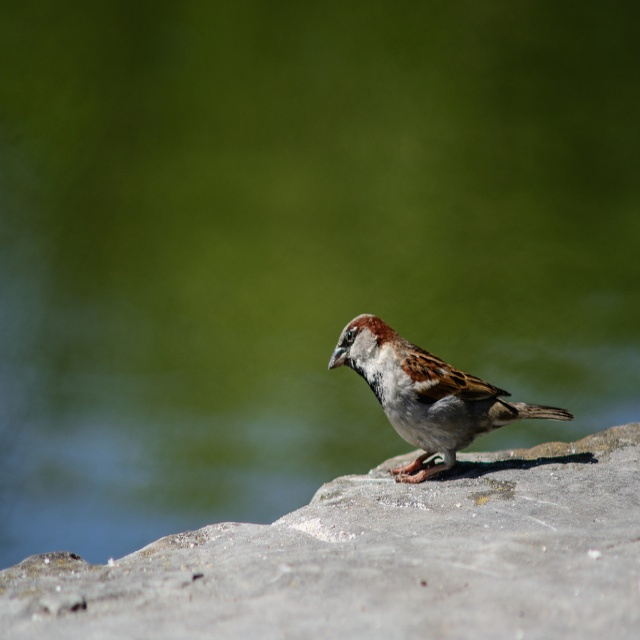Sparrow: (326, 311, 574, 486)
